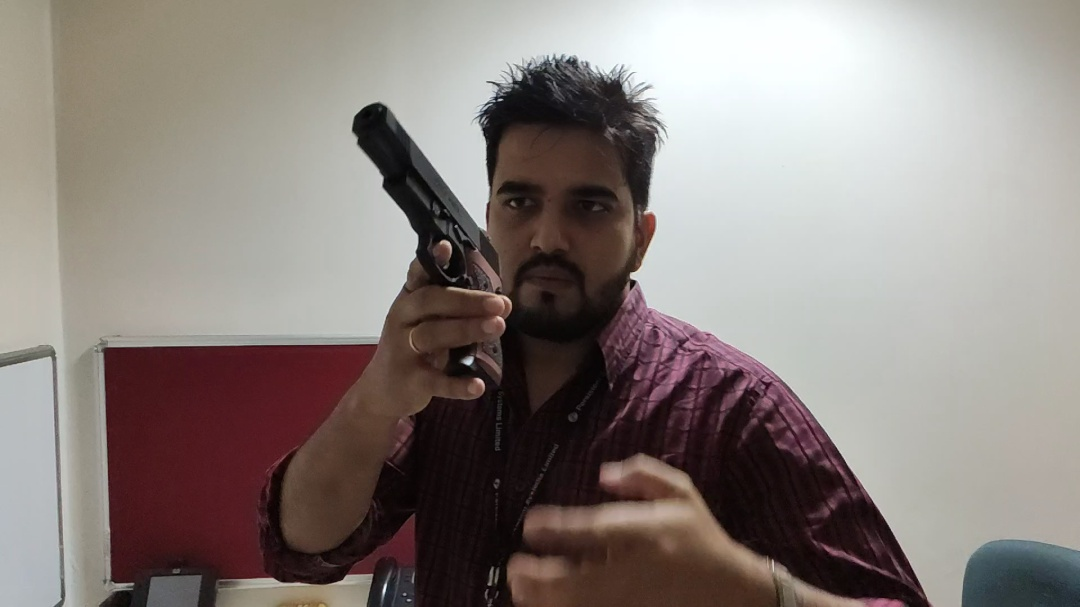gun: (346, 92, 518, 403)
